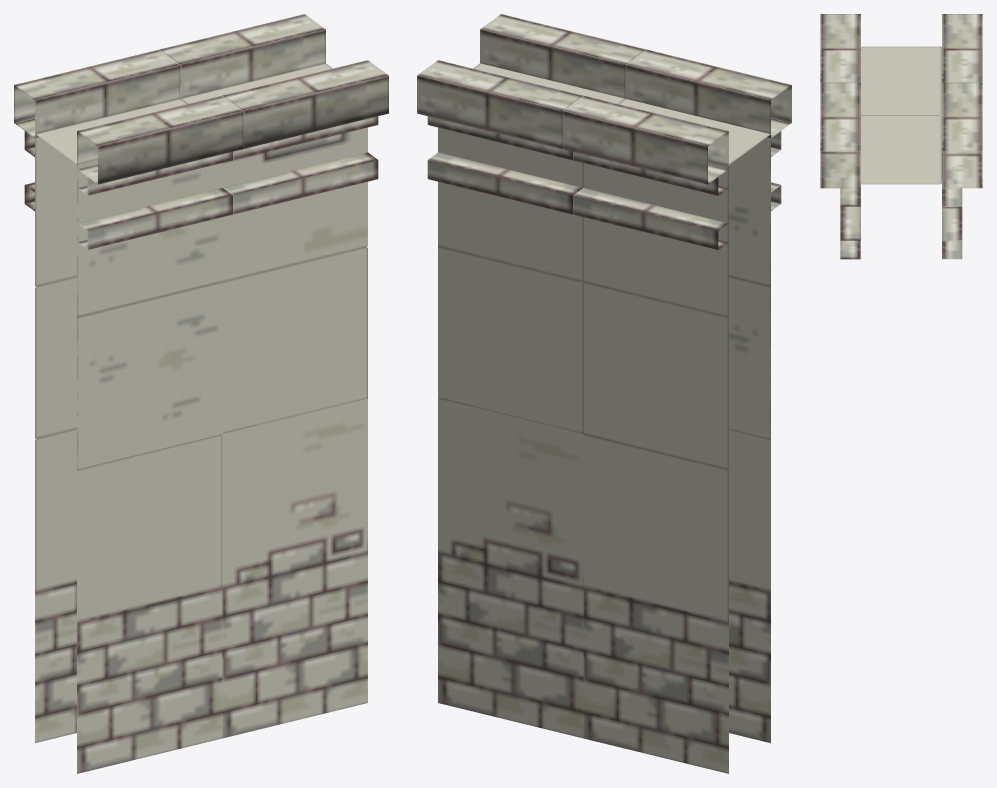
File: stone_wall_thin_02.fbx
3 renders of one model, left to right at view 1: azimuth 30°, elevation 25°; view 2: azimuth 150°, elevation 25°; view 3: azimuth 270°, elevation 25°, orthographic. The views are drawn at different scales.
Parts seen in each view (by area): view 1: stone_wall_thin_02; view 2: stone_wall_thin_02; view 3: stone_wall_thin_02.
Boxes of the visible parts, x1,y1,x2,y2 form: stone_wall_thin_02: (14,14,388,773); stone_wall_thin_02: (417,14,791,773); stone_wall_thin_02: (820,14,982,259).
Bounding box in the file's own units: 200 × 422 × 100.
